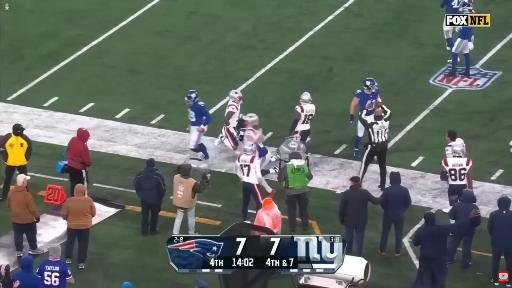Helmet: (185, 90, 198, 105), (363, 78, 377, 91), (244, 114, 258, 127), (229, 90, 242, 103), (243, 143, 257, 155), (452, 145, 465, 157), (236, 127, 247, 141), (300, 92, 311, 103), (461, 0, 473, 9)
Jersey: (236, 155, 262, 184), (443, 158, 471, 184), (356, 89, 379, 116), (189, 100, 211, 126), (295, 104, 315, 131), (225, 101, 240, 127), (446, 138, 465, 157), (244, 128, 264, 144), (442, 0, 463, 13), (256, 141, 268, 158), (459, 27, 473, 41)
Player: (236, 144, 274, 222), (442, 145, 472, 206), (186, 90, 211, 161), (215, 90, 242, 150), (350, 78, 381, 123), (290, 92, 315, 143), (449, 27, 473, 77), (255, 143, 278, 176), (244, 114, 264, 143), (446, 130, 465, 157), (444, 22, 459, 50)
